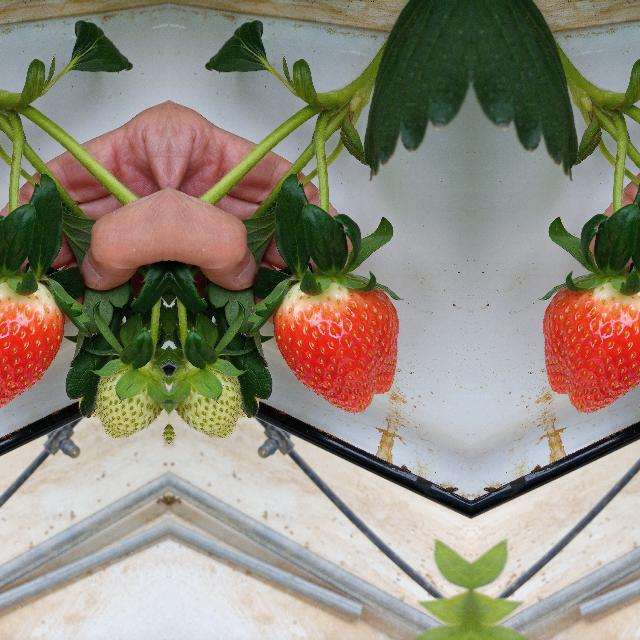Health_100: (272, 278, 398, 414), (542, 278, 640, 414), (0, 278, 64, 414)
Health_25: (170, 346, 248, 458), (88, 346, 166, 458)
